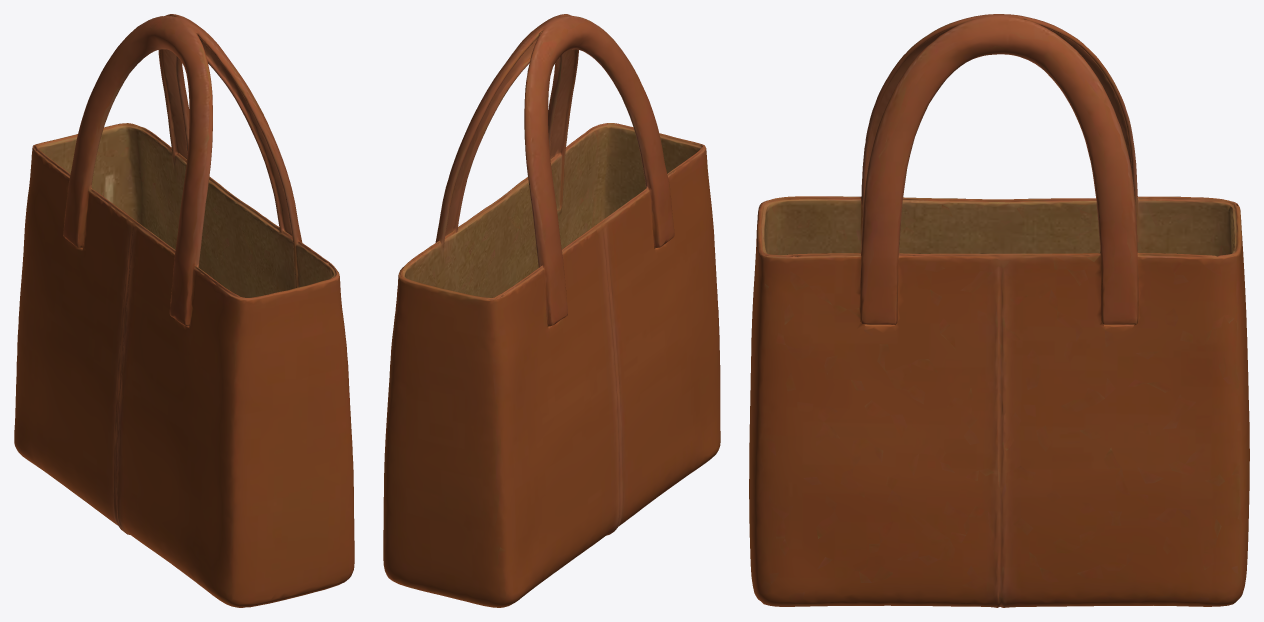
File: m_mupz89gh4lkz.glb
3 renders of one model, left to right at view 1: azimuth 30°, elevation 25°; view 2: azimuth 150°, elevation 25°; view 3: azimuth 270°, elevation 25°, orthographic. The views are drawn at different scales.
Visible parts, largest first — view 1: world; view 2: world; view 3: world.
Part boxes in pixels (x1,y1,x2,y2): world: [14, 14, 354, 607]; world: [383, 14, 720, 607]; world: [749, 14, 1249, 607].
Size of the model in its own units: 0.293 by 1 by 0.8073.
Materials: 1 (1 with a texture image).
